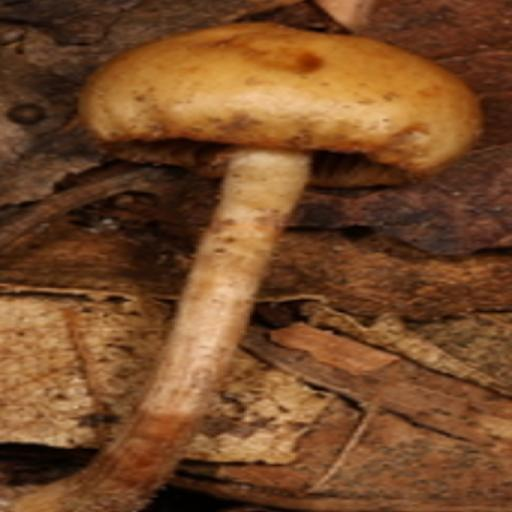mushroom: (62, 17, 479, 331)
